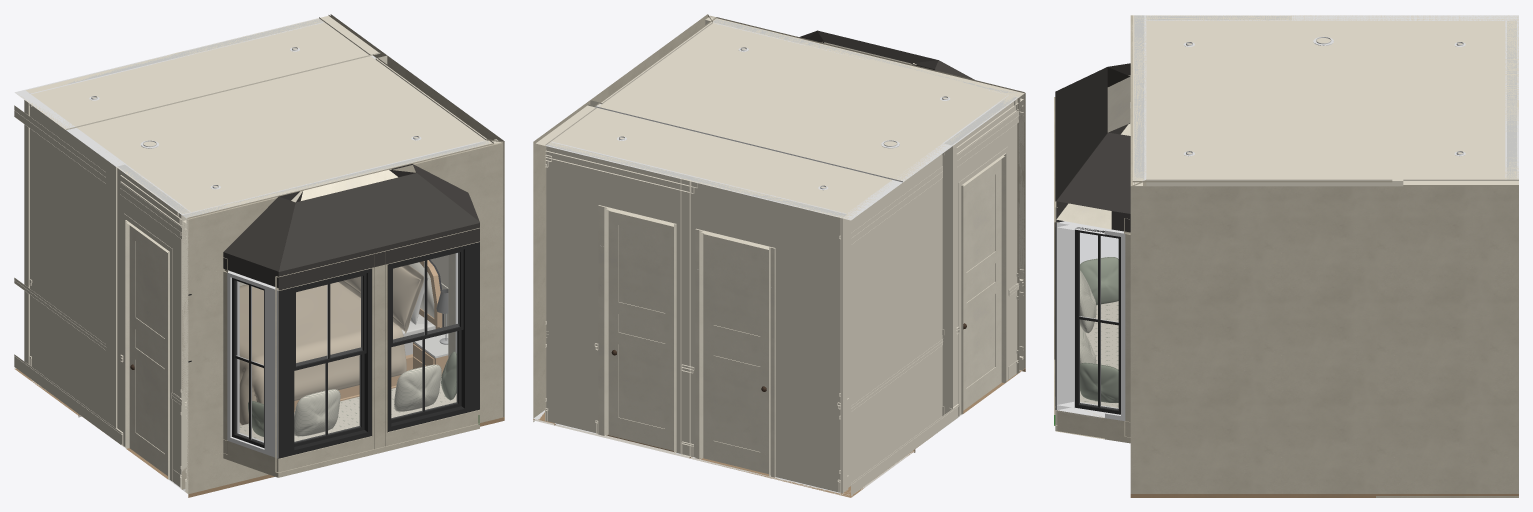
File: loli-bedroom-27dfbb7daf05.glb
3 views of the same model, side by side, from view 1: azimuth 30°, elevation 25°; view 2: azimuth 150°, elevation 25°; view 3: azimuth 270°, elevation 25° (orthographic). The views are drawn at different scales.
Parts seen in each view (by area): view 1: loli-bedroom-dbd60ee5c3733ed6, loli-bedroom-93447d0fea18c81b, loli-bedroom-6a1144f4e43410bb, loli-bedroom-fd1c2425c72e98e4, loli-bedroom-daa4f3edc919433a, loli-bedroom-4cda501b4aaed82b, loli-bedroom-2575515a05775d9e, loli-bedroom-7cd33252cebb505d, loli-bedroom-527014f532f46c8e, loli-bedroom-cf6d22c5317ced0b, loli-bedroom-75b75731e5e739a5, loli-bedroom-68d06b361ac47823 (+21 smaller); view 2: loli-bedroom-0e637d2be41161fb, loli-bedroom-dbd60ee5c3733ed6, loli-bedroom-6a1144f4e43410bb, loli-bedroom-5b37b110dc0e2cdc, loli-bedroom-eceff908bd344cec, loli-bedroom-2575515a05775d9e, loli-bedroom-68d06b361ac47823, loli-bedroom-cf6d22c5317ced0b, loli-bedroom-319244b3406409d9, loli-bedroom-93447d0fea18c81b, loli-bedroom-d6b1bc8c737b28e2, loli-bedroom-8cbce1d8f2f8a576 (+14 smaller); view 3: loli-bedroom-592bd9af2ed71797, loli-bedroom-dbd60ee5c3733ed6, loli-bedroom-319244b3406409d9, loli-bedroom-2575515a05775d9e, loli-bedroom-53e6a9e479527da3, loli-bedroom-daa4f3edc919433a, loli-bedroom-131a246e00605616, loli-bedroom-d8b729a36612415b, loli-bedroom-93447d0fea18c81b, loli-bedroom-0e637d2be41161fb, loli-bedroom-ad11484878029c25, loli-bedroom-e0a3201bd49c7536 (+9 smaller).
Boxes of the visible parts, x1,y1,x2,y2 form: loli-bedroom-dbd60ee5c3733ed6: (77, 54, 494, 218); loli-bedroom-93447d0fea18c81b: (181, 140, 502, 494); loli-bedroom-6a1144f4e43410bb: (14, 90, 125, 428); loli-bedroom-fd1c2425c72e98e4: (279, 268, 371, 458); loli-bedroom-daa4f3edc919433a: (278, 169, 479, 290); loli-bedroom-4cda501b4aaed82b: (388, 242, 479, 431); loli-bedroom-2575515a05775d9e: (17, 15, 380, 130); loli-bedroom-7cd33252cebb505d: (239, 282, 406, 425); loli-bedroom-527014f532f46c8e: (227, 271, 278, 458); loli-bedroom-cf6d22c5317ced0b: (129, 225, 167, 475); loli-bedroom-75b75731e5e739a5: (277, 264, 478, 477); loli-bedroom-68d06b361ac47823: (116, 164, 190, 487); loli-bedroom-0e637d2be41161fb: (545, 141, 847, 493); loli-bedroom-dbd60ee5c3733ed6: (595, 17, 1024, 182); loli-bedroom-6a1144f4e43410bb: (842, 143, 952, 495); loli-bedroom-5b37b110dc0e2cdc: (703, 233, 768, 474); loli-bedroom-eceff908bd344cec: (608, 210, 673, 450); loli-bedroom-2575515a05775d9e: (535, 104, 893, 220); loli-bedroom-68d06b361ac47823: (942, 95, 1018, 420); loli-bedroom-cf6d22c5317ced0b: (963, 159, 1001, 410); loli-bedroom-319244b3406409d9: (533, 100, 600, 419); loli-bedroom-93447d0fea18c81b: (709, 15, 1025, 372); loli-bedroom-d6b1bc8c737b28e2: (695, 228, 775, 477); loli-bedroom-8cbce1d8f2f8a576: (961, 153, 1006, 414); loli-bedroom-592bd9af2ed71797: (1130, 179, 1392, 493); loli-bedroom-dbd60ee5c3733ed6: (1132, 15, 1403, 182); loli-bedroom-319244b3406409d9: (1392, 179, 1518, 493); loli-bedroom-2575515a05775d9e: (1403, 15, 1518, 186); loli-bedroom-53e6a9e479527da3: (1056, 221, 1125, 421); loli-bedroom-daa4f3edc919433a: (1055, 67, 1130, 221); loli-bedroom-131a246e00605616: (1056, 124, 1130, 232); loli-bedroom-d8b729a36612415b: (1055, 234, 1130, 443); loli-bedroom-93447d0fea18c81b: (1130, 15, 1146, 185); loli-bedroom-0e637d2be41161fb: (1505, 20, 1518, 179); loli-bedroom-ad11484878029c25: (1147, 177, 1391, 186); loli-bedroom-e0a3201bd49c7536: (1080, 301, 1118, 407).
Size of the model in its own units: 3.62 by 3.05 by 4.12.
42 materials, 8 textured.
